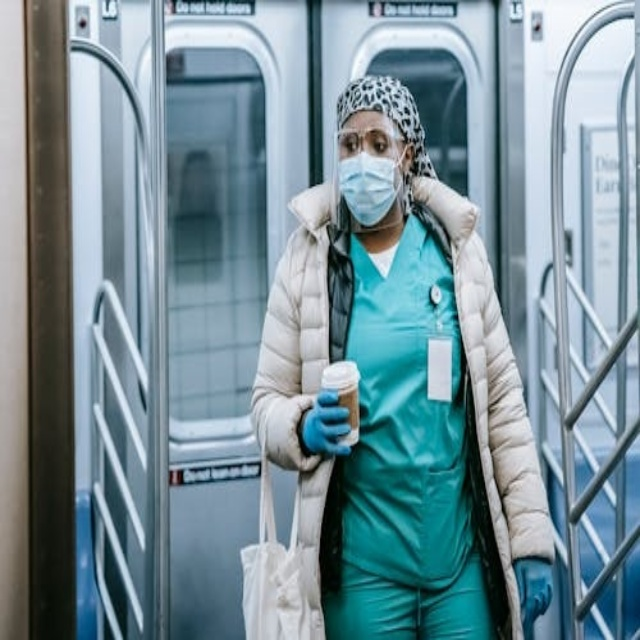Gafas: (336, 127, 407, 159)
Guantes: (301, 394, 354, 458), (515, 558, 554, 637)
Mascara: (339, 145, 405, 227)
